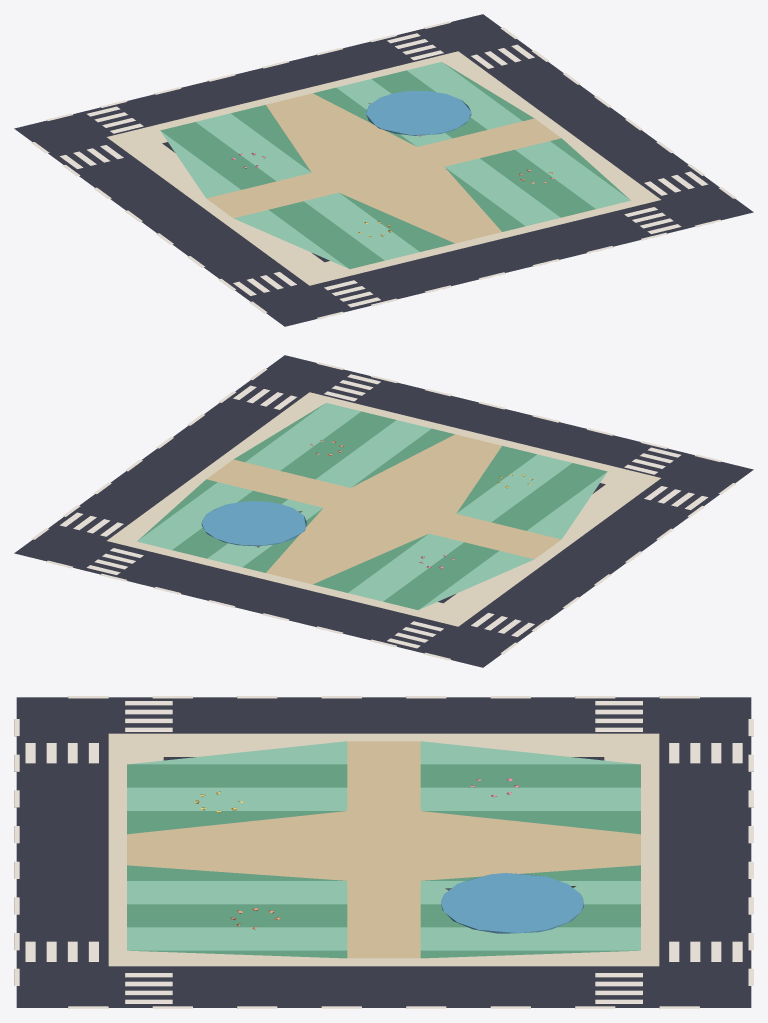
File: tile_park.glb
3 views of the same model, one above another, from view 1: azimuth 30°, elevation 25°; view 2: azimuth 150°, elevation 25°; view 3: azimuth 270°, elevation 25° (orthographic). The views are drawn at different scales.
Visible parts, largest first — view 1: tile_park; view 2: tile_park; view 3: tile_park.
Part boxes in pixels (bbox=[...]): tile_park: bbox=[14, 14, 753, 326]; tile_park: bbox=[14, 355, 753, 667]; tile_park: bbox=[14, 696, 753, 1008].
Bounding box in the file's own units: 40.3 × 0.2853 × 40.3.
1 material, 1 textured.
